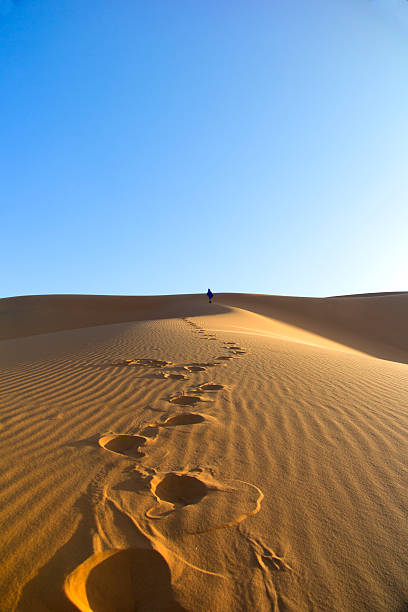human_foot_print: (64, 466, 262, 611), (17, 470, 188, 611), (121, 466, 261, 579), (127, 468, 262, 578), (95, 464, 222, 578), (126, 466, 262, 533), (133, 462, 262, 532), (64, 546, 185, 611), (146, 470, 263, 533), (98, 413, 209, 458), (98, 413, 205, 458), (98, 413, 204, 457), (99, 413, 204, 457), (238, 523, 292, 599), (155, 470, 229, 525), (146, 471, 216, 519), (98, 416, 178, 458), (155, 473, 225, 521), (151, 490, 219, 536), (112, 355, 231, 379), (150, 472, 216, 508), (240, 527, 292, 571), (118, 357, 217, 380), (114, 358, 218, 379), (112, 358, 216, 379), (139, 412, 215, 438), (140, 412, 214, 438), (151, 472, 209, 505), (184, 343, 240, 371), (121, 358, 187, 379), (249, 538, 291, 570), (168, 382, 223, 406), (168, 381, 223, 405), (169, 381, 223, 404), (98, 434, 146, 457), (185, 381, 226, 401), (182, 318, 216, 340), (157, 412, 208, 426), (112, 358, 170, 367), (217, 342, 245, 360), (158, 364, 188, 379), (168, 393, 202, 405), (184, 361, 219, 371), (193, 381, 224, 392), (134, 358, 170, 367), (140, 423, 158, 439), (223, 342, 245, 354), (196, 382, 224, 391), (110, 358, 137, 366), (42, 410, 63, 420), (185, 363, 207, 371), (145, 403, 163, 412), (198, 330, 216, 339), (163, 372, 186, 379), (199, 330, 215, 339), (223, 343, 243, 350), (183, 318, 197, 327), (187, 321, 200, 330), (182, 317, 194, 326), (202, 361, 219, 367), (216, 355, 233, 361), (228, 348, 245, 354), (194, 323, 205, 332), (198, 332, 209, 340), (223, 345, 240, 350), (203, 329, 215, 336), (206, 361, 219, 367), (224, 347, 234, 354), (187, 322, 195, 330), (188, 320, 197, 327), (233, 349, 245, 354), (202, 336, 215, 340), (192, 324, 199, 331), (207, 332, 215, 338), (181, 316, 189, 322), (200, 334, 209, 339), (193, 323, 200, 329), (198, 328, 205, 334), (225, 341, 235, 345), (208, 336, 216, 340)
